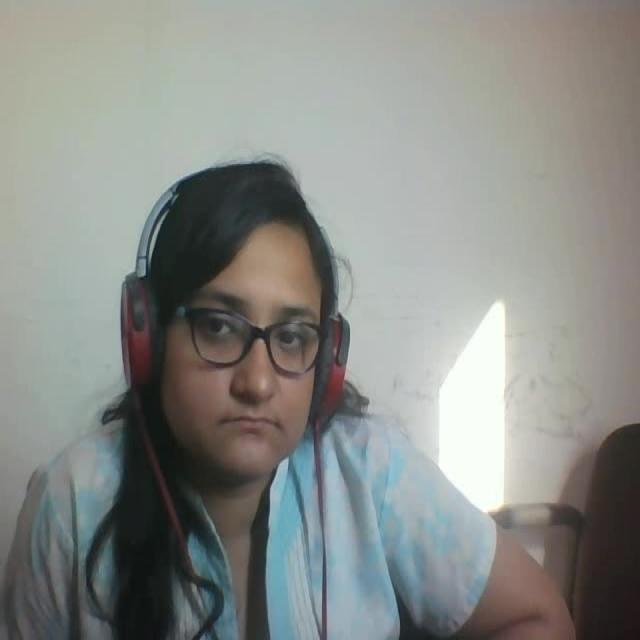Engaged: (98, 127, 336, 507)
